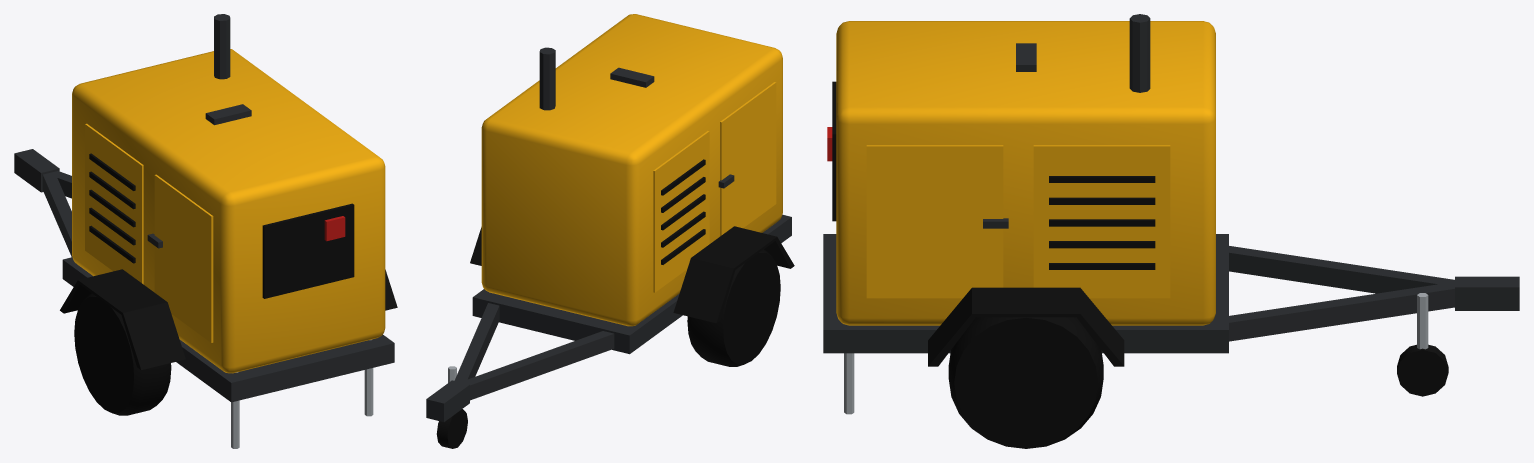
The model's file is plant.small.generator_20kva.glb.
3 renders of one model, left to right at view 1: azimuth 30°, elevation 25°; view 2: azimuth 150°, elevation 25°; view 3: azimuth 270°, elevation 25°, orthographic. The views are drawn at different scales.
Parts seen in each view (by area): view 1: main__plant_yellow, main__steel_dark, main__plastic_black, wheels__rubber, wheels__plastic_black, main__steel_galvanised, main__hazard_red; view 2: main__plant_yellow, main__steel_dark, wheels__rubber, wheels__plastic_black, main__plastic_black; view 3: main__plant_yellow, main__steel_dark, wheels__rubber, main__plastic_black, wheels__plastic_black, main__steel_galvanised.
Boxes of the visible parts, x1=… form: main__plant_yellow: x1=72, y1=49, x2=385, y2=373; main__steel_dark: x1=14, y1=14, x2=394, y2=402; main__plastic_black: x1=89, y1=153, x2=354, y2=298; wheels__rubber: x1=74, y1=293, x2=171, y2=415; wheels__plastic_black: x1=60, y1=269, x2=397, y2=370; main__steel_galvanised: x1=231, y1=339, x2=373, y2=448; main__hazard_red: x1=324, y1=216, x2=345, y2=241; main__plant_yellow: x1=481, y1=14, x2=782, y2=326; main__steel_dark: x1=426, y1=47, x2=791, y2=421; wheels__rubber: x1=687, y1=249, x2=780, y2=366; wheels__plastic_black: x1=470, y1=226, x2=794, y2=323; main__plastic_black: x1=436, y1=159, x2=705, y2=448; main__plant_yellow: x1=836, y1=21, x2=1215, y2=325; main__steel_dark: x1=823, y1=14, x2=1519, y2=353; wheels__rubber: x1=948, y1=317, x2=1103, y2=448; main__plastic_black: x1=832, y1=81, x2=1448, y2=396; wheels__plastic_black: x1=928, y1=287, x2=1124, y2=366; main__steel_galvanised: x1=844, y1=293, x2=1428, y2=414.
Size of the model in its own units: 1.38 by 1.65 by 2.69.
